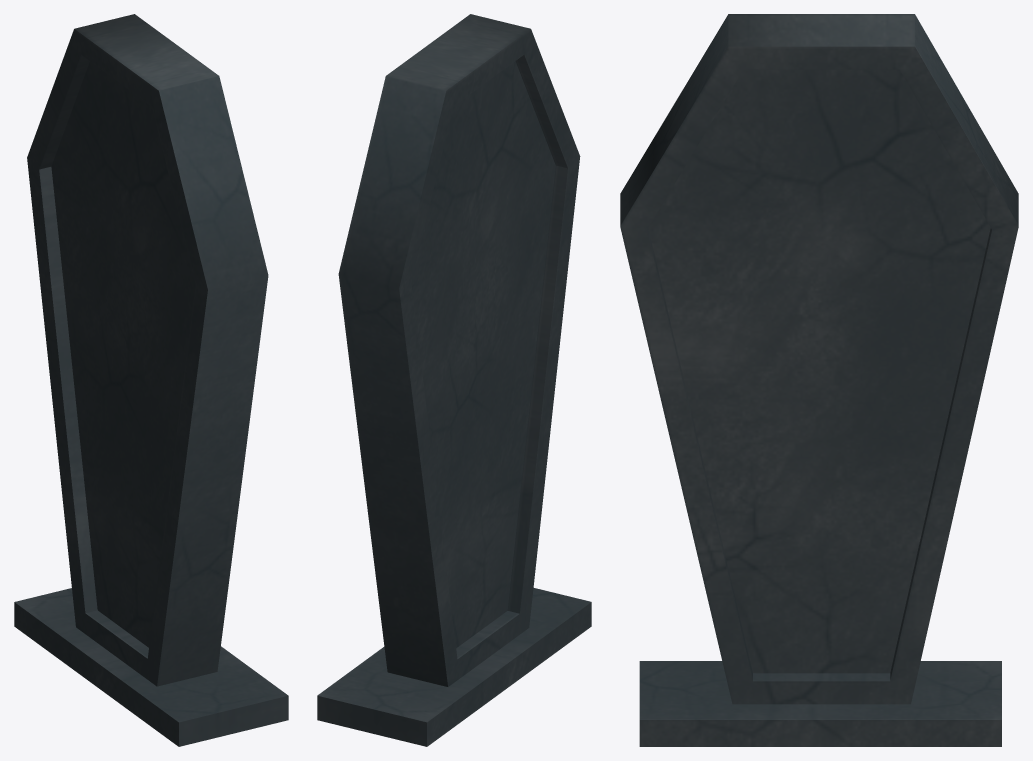
File: Gravestone14_Model.fbx
3 views of the same model, side by side, from view 1: azimuth 30°, elevation 25°; view 2: azimuth 150°, elevation 25°; view 3: azimuth 270°, elevation 25° (orthographic). The views are drawn at different scales.
Visible parts, largest first — view 1: Gravestone14; view 2: Gravestone14; view 3: Gravestone14.
Boxes of the visible parts, x1,y1,x2,y2 form: Gravestone14: (14, 14, 288, 746); Gravestone14: (317, 14, 591, 746); Gravestone14: (620, 14, 1018, 746).
Bounding box in the file's own units: 11.88 × 64.31 × 33.92.
